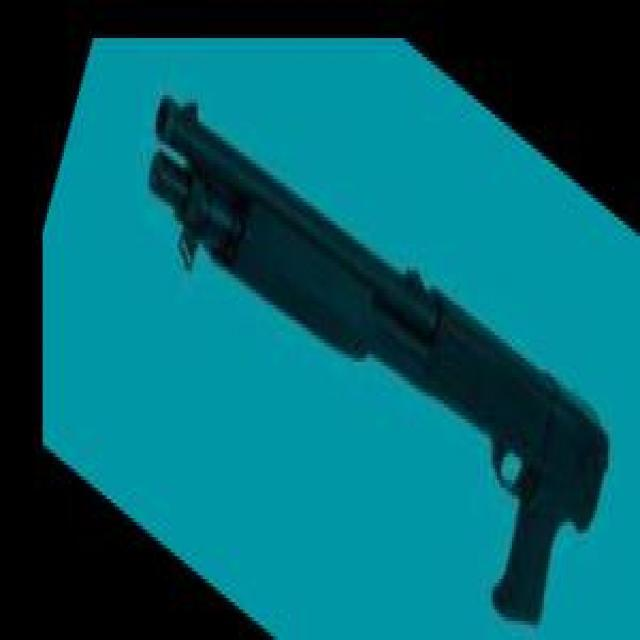weapon: (146, 91, 612, 628)
